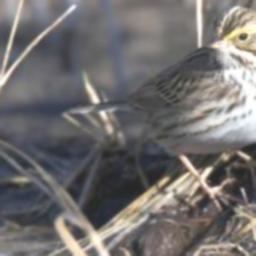Sparrow: (64, 4, 256, 210)
